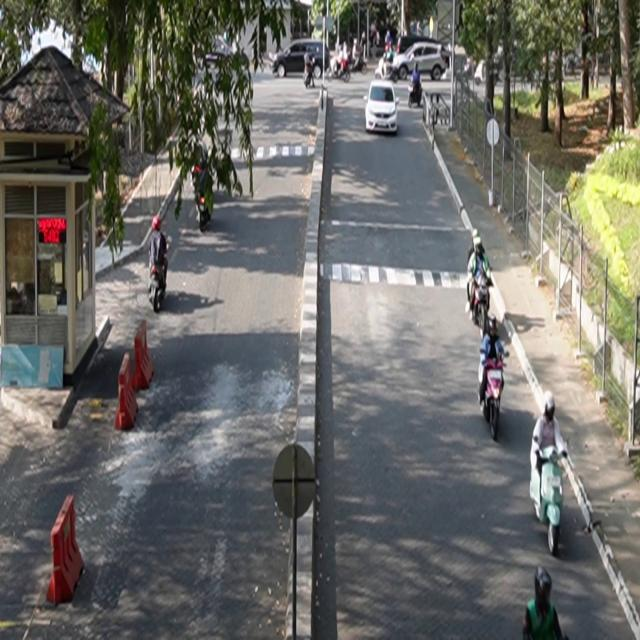car: (273, 39, 331, 79), (365, 80, 401, 135)
